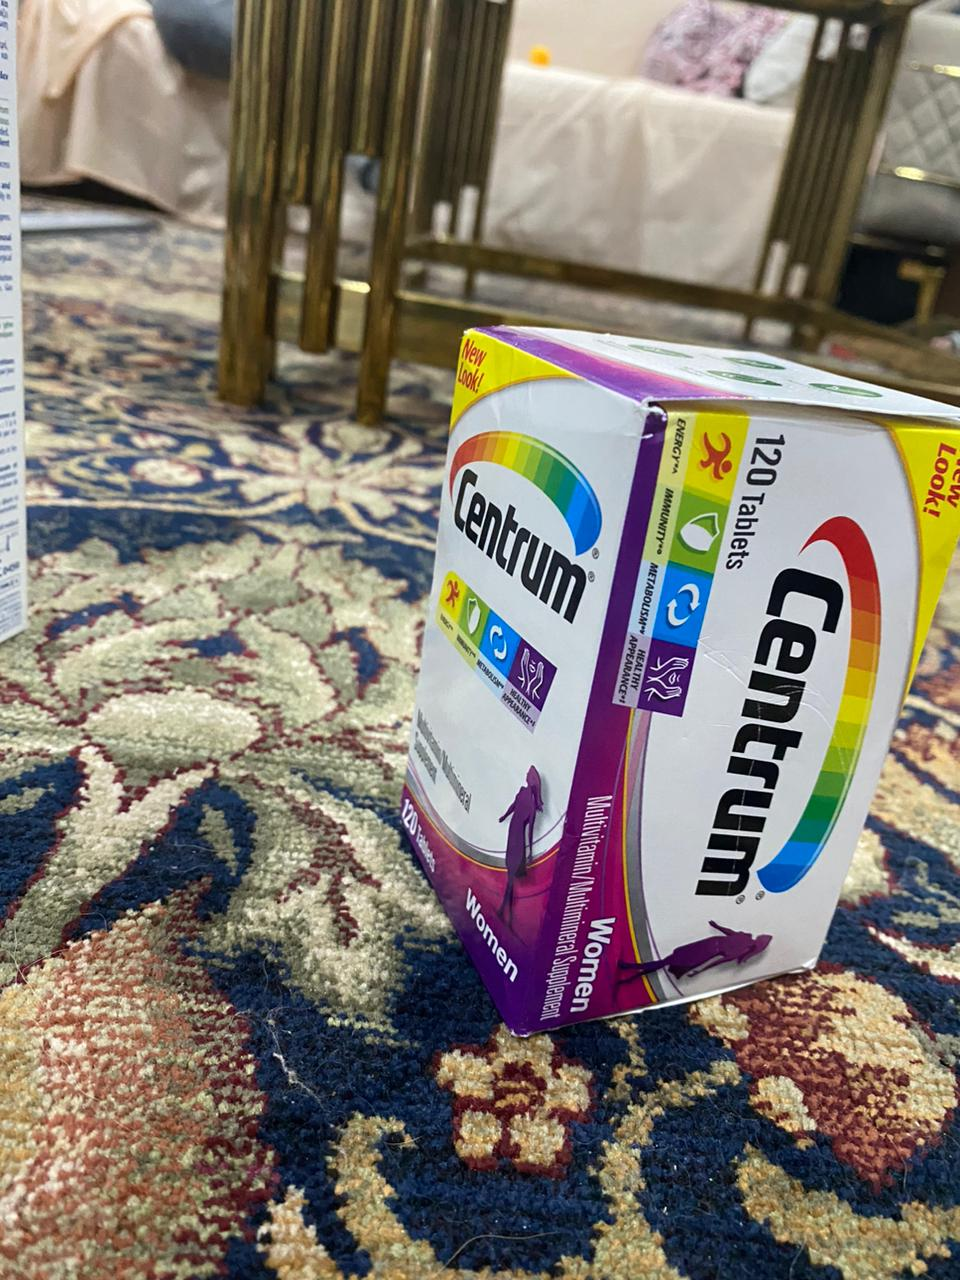Centrum: (398, 321, 960, 1038)
Physiomer: (1, 2, 47, 644)
